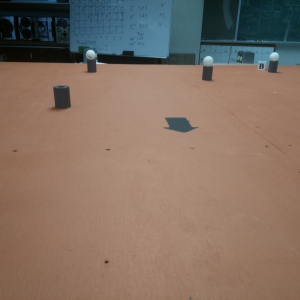blockB: (256, 60, 265, 69)
obstacle: (53, 84, 71, 110), (201, 56, 215, 81), (85, 49, 98, 72), (269, 51, 280, 72)
start: (163, 114, 198, 134)
